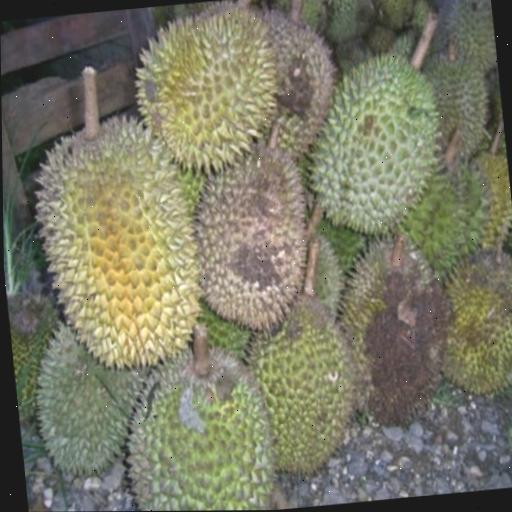rot: (114, 0, 355, 196), (152, 114, 343, 351), (334, 229, 474, 429)
